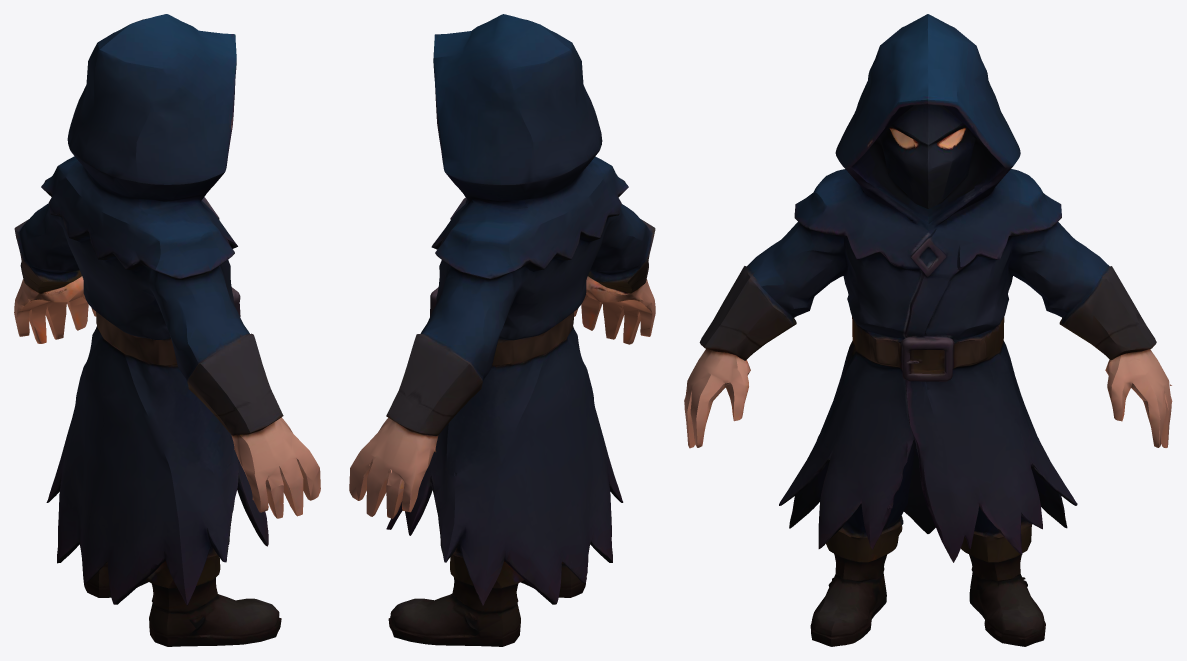
The model's file is Character_1.fbx.
The picture shows the model from 3 angles, left to right: view 1: azimuth 30°, elevation 25°; view 2: azimuth 150°, elevation 25°; view 3: azimuth 270°, elevation 25°; orthographic projection.
Parts seen in each view (by area): view 1: Character_1; view 2: Character_1; view 3: Character_1.
Part boxes in pixels (bbox=[...]): Character_1: bbox=[14, 14, 320, 646]; Character_1: bbox=[349, 14, 655, 646]; Character_1: bbox=[684, 14, 1172, 646].
Size of the model in its own units: 50.24 by 180 by 136.
1 material, 1 textured.
